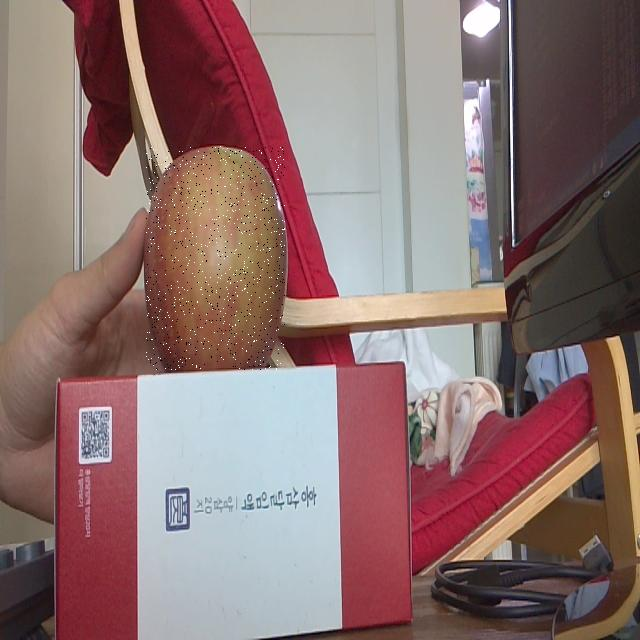apple: (146, 146, 285, 370)
